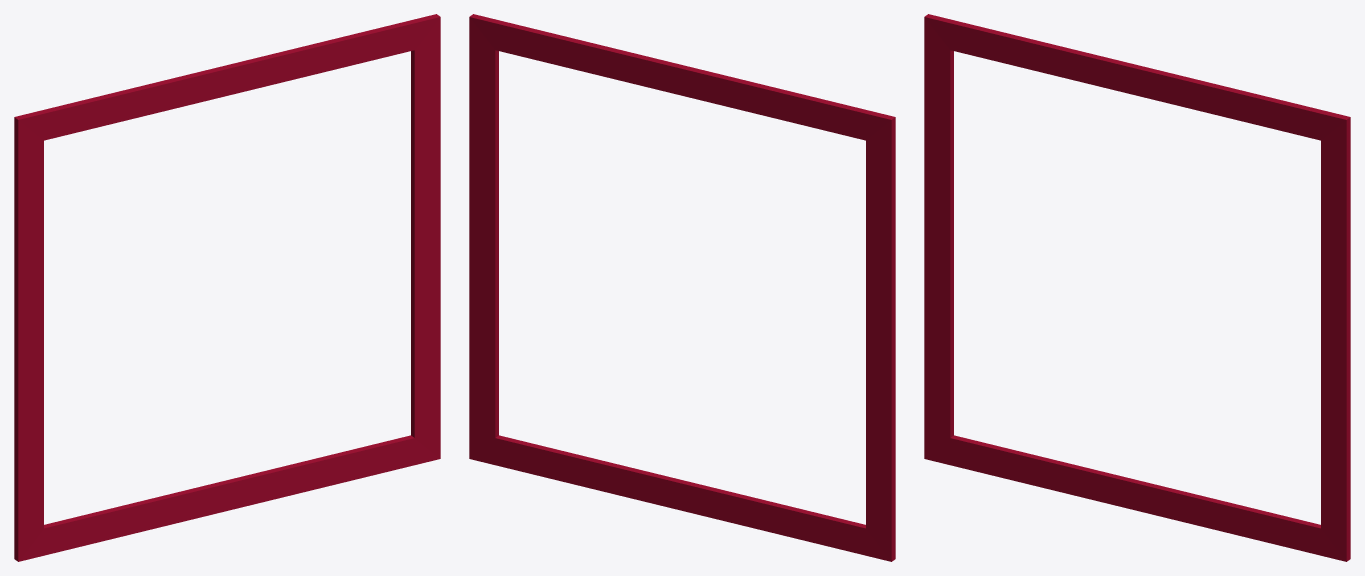
File: square.obj
3 renders of one model, left to right at view 1: azimuth 30°, elevation 25°; view 2: azimuth 150°, elevation 25°; view 3: azimuth 330°, elevation 25°, orthographic.
Visible parts, largest first — view 1: Plane; view 2: Plane; view 3: Plane.
Boxes of the visible parts, x1,y1,x2,y2 form: Plane: [14, 14, 440, 561]; Plane: [469, 14, 895, 561]; Plane: [924, 14, 1350, 561].
Bounding box in the file's own units: 2 × 2 × 0.0329.
Materials: 1 (1 with a texture image).
